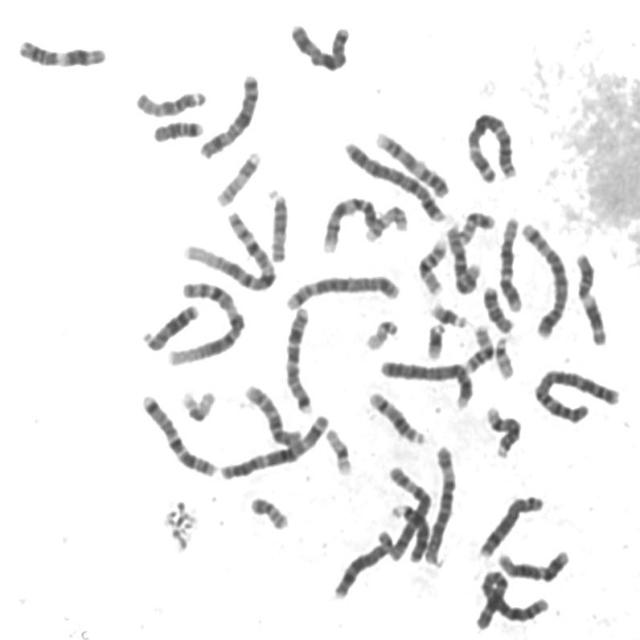A1: (178, 206, 278, 294), (162, 274, 247, 368)
A2: (528, 362, 622, 426), (471, 564, 552, 631)
A3: (215, 407, 332, 481), (462, 106, 520, 184)
B4: (339, 135, 447, 224), (376, 353, 475, 410)
B5: (515, 216, 570, 340), (280, 268, 402, 312)
C10: (239, 378, 304, 448), (440, 218, 482, 296)
C11: (571, 245, 609, 348), (12, 32, 109, 70)
C12: (494, 210, 525, 314), (493, 544, 572, 583)
C6: (383, 459, 434, 564), (420, 440, 459, 568)
C7: (137, 388, 218, 478), (279, 300, 316, 415)
C8: (329, 524, 395, 602), (474, 489, 546, 559)
C9: (370, 126, 450, 199), (317, 190, 380, 255)
D13: (138, 297, 200, 353), (386, 498, 432, 563)
D14: (363, 385, 427, 447), (481, 400, 523, 461)
D15: (130, 83, 208, 119), (264, 183, 289, 264)
E16: (412, 232, 448, 296), (461, 319, 496, 374)
E17: (211, 145, 263, 208), (360, 199, 409, 244)
E18: (478, 280, 516, 334), (148, 115, 205, 144)
F19: (175, 382, 218, 424), (322, 422, 354, 477)
F20: (244, 490, 291, 532), (454, 204, 497, 245)
G21: (426, 296, 469, 329), (421, 316, 447, 362)
G22: (360, 313, 400, 352), (490, 330, 516, 382)
X: (194, 67, 260, 161), (285, 15, 352, 73)
